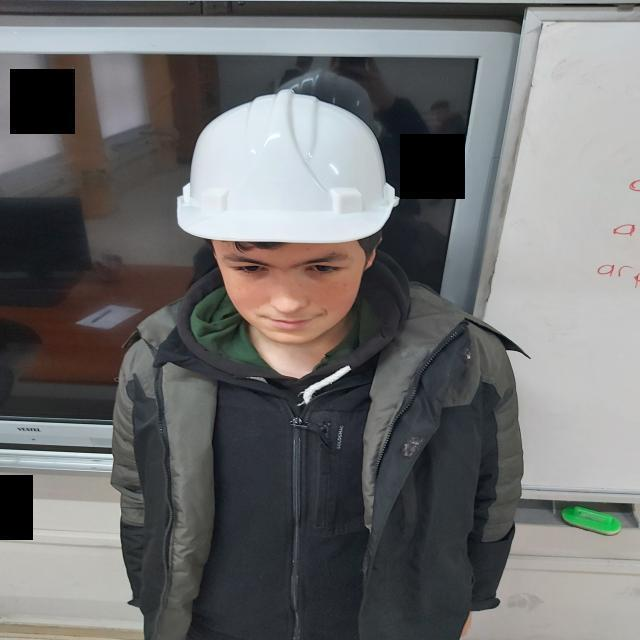white helmet: (175, 88, 408, 252)
